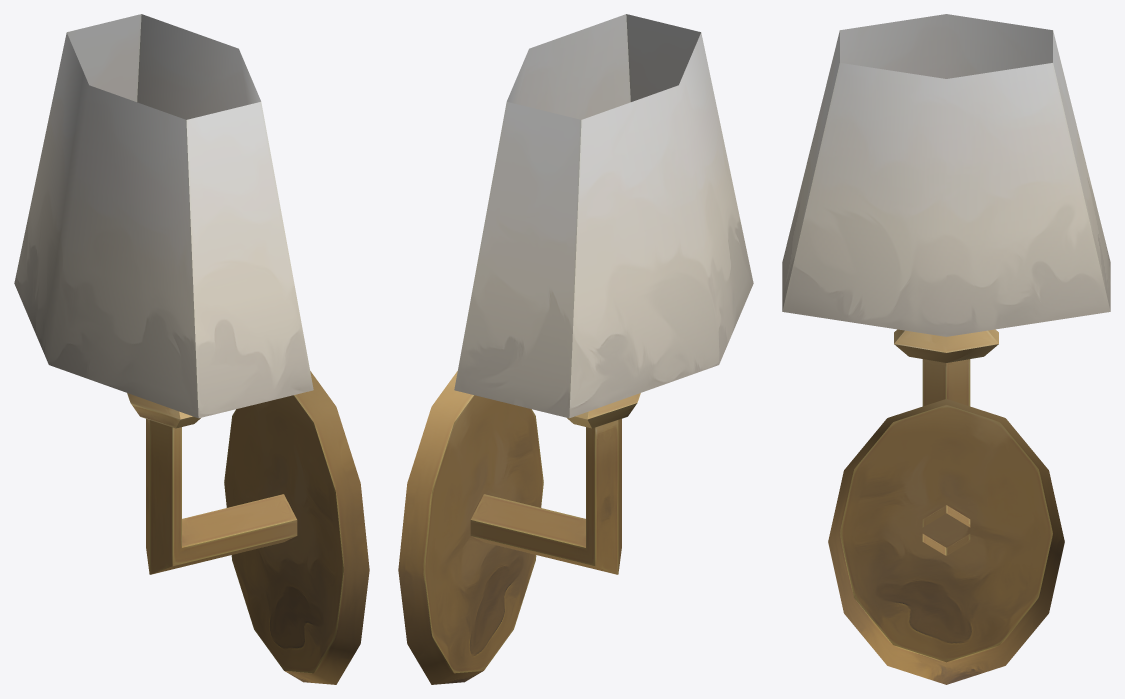
The model's file is Lamp2_v3.fbx.
3 views of the same model, side by side, from view 1: azimuth 30°, elevation 25°; view 2: azimuth 150°, elevation 25°; view 3: azimuth 270°, elevation 25° (orthographic). The views are drawn at different scales.
Parts seen in each view (by area): view 1: Circle.002; view 2: Circle.002; view 3: Circle.002.
Part boxes in pixels (x1,y1,x2,y2): Circle.002: (14, 14, 369, 684); Circle.002: (398, 14, 753, 684); Circle.002: (782, 14, 1110, 684).
Bounding box in the file's own units: 13.25 × 32.32 × 16.63.
